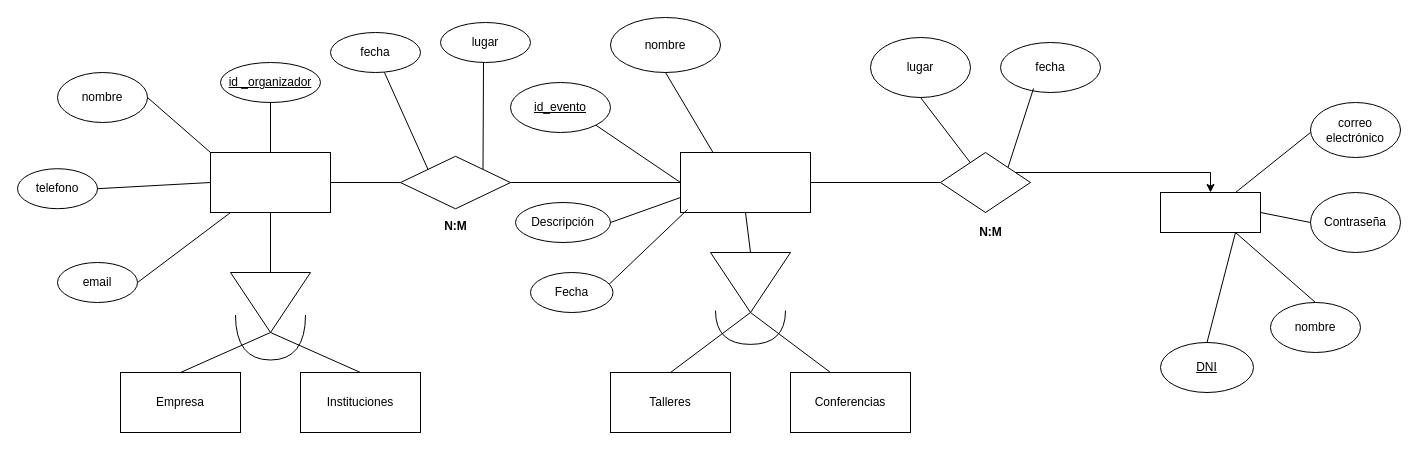
Image size: 1418x450. Some labels were removed from this diagram. The centre of each missing label's shape, as x and y in pixels:
Eventos: the point at 745,182
inscribir: the point at 985,182
Organizadores: the point at 270,182
organizan: the point at 455,182
Usuarios: the point at 1210,212
